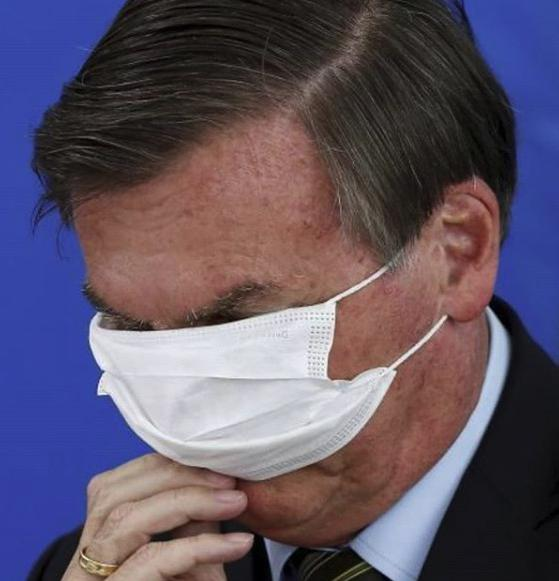mask_weared_incorrect: (54, 229, 378, 554)
